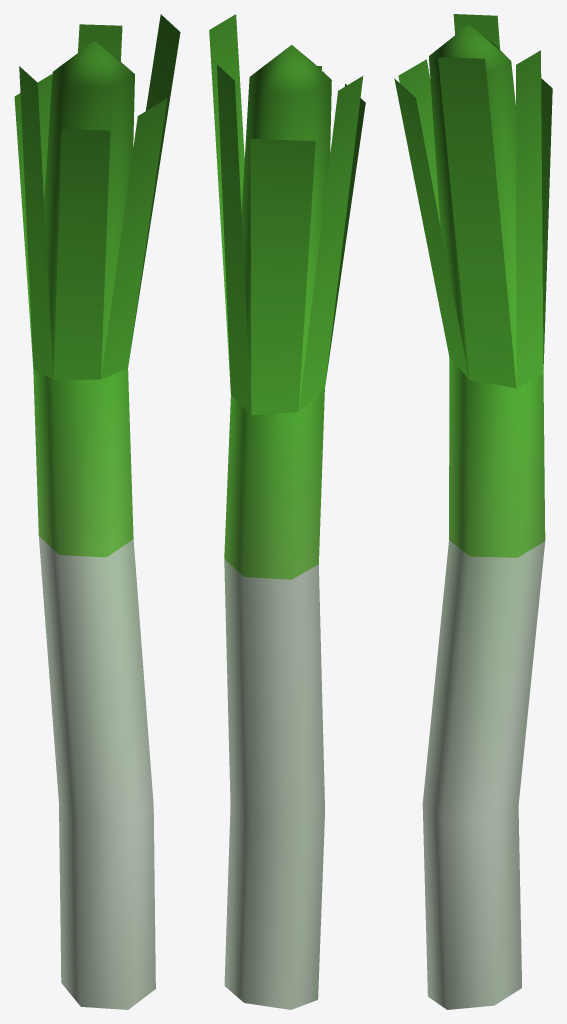
The model's file is Leek_Regular.fbx.
3 views of the same model, side by side, from view 1: azimuth 30°, elevation 25°; view 2: azimuth 150°, elevation 25°; view 3: azimuth 270°, elevation 25° (orthographic).
Parts seen in each view (by area): view 1: Leek_Regular; view 2: Leek_Regular; view 3: Leek_Regular.
Part boxes in pixels (x1,y1,x2,y2): Leek_Regular: (14,14,180,1009); Leek_Regular: (209,14,365,1009); Leek_Regular: (394,14,552,1009).
Bounding box in the file's own units: 7.91 × 52.3 × 7.76.
